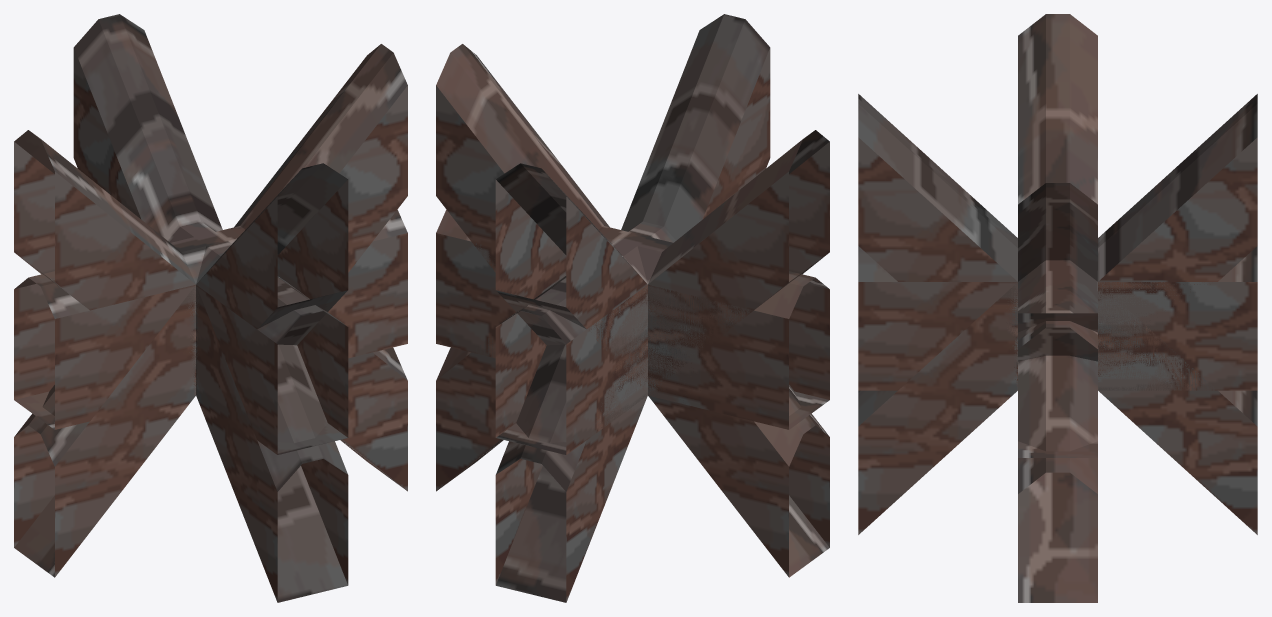
The model's file is Tunnels.fbx.
The picture shows the model from 3 angles, left to right: view 1: azimuth 30°, elevation 25°; view 2: azimuth 150°, elevation 25°; view 3: azimuth 270°, elevation 25°; orthographic projection. The views are drawn at different scales.
Visible parts, largest first — view 1: Tunnel Staircase DS, Tunnel Staircase DW, Tunnel Staircase UN, Tunnel Staircase UW, Tunnel Coridor W, Tunnel Staircase US, Tunnel Staircase UE, Tunnel Coridor S, Tunnel Coridor E, Tunnel Staircase DE, Tunnel Junction; view 2: Tunnel Staircase UW, Tunnel Staircase DN, Tunnel Coridor W, Tunnel Staircase US, Tunnel Staircase UN, Tunnel Staircase DW, Tunnel Coridor N, Tunnel Staircase UE, Tunnel Coridor E, Tunnel Staircase DE, Tunnel Junction; view 3: Tunnel Staircase UN, Tunnel Staircase DE, Tunnel Staircase DS, Tunnel Coridor N, Tunnel Staircase US, Tunnel Staircase DN, Tunnel Staircase UW, Tunnel Coridor S, Tunnel Staircase UE, Tunnel Coridor E.
Boxes of the visible parts, box(x1,y1,x2,y2) form: Tunnel Staircase DS: box(196, 287, 348, 602); Tunnel Staircase DW: box(14, 285, 195, 577); Tunnel Staircase UN: box(73, 14, 222, 240); Tunnel Staircase UW: box(14, 130, 195, 394); Tunnel Coridor W: box(14, 271, 195, 429); Tunnel Staircase US: box(196, 163, 348, 381); Tunnel Staircase UE: box(234, 44, 407, 272); Tunnel Coridor S: box(196, 276, 348, 454); Tunnel Coridor E: box(328, 209, 407, 358); Tunnel Staircase DE: box(340, 347, 407, 491); Tunnel Junction: box(168, 221, 244, 284); Tunnel Staircase UW: box(648, 130, 829, 393); Tunnel Staircase DN: box(495, 288, 647, 602); Tunnel Coridor W: box(648, 271, 829, 429); Tunnel Staircase US: box(621, 14, 770, 240); Tunnel Staircase UN: box(495, 163, 647, 394); Tunnel Staircase DW: box(648, 286, 829, 577); Tunnel Coridor N: box(495, 276, 647, 454); Tunnel Staircase UE: box(436, 44, 609, 272); Tunnel Coridor E: box(436, 209, 515, 358); Tunnel Staircase DE: box(436, 338, 503, 491); Tunnel Junction: box(599, 221, 675, 284); Tunnel Staircase UN: box(1098, 94, 1257, 389); Tunnel Staircase DE: box(1018, 355, 1097, 602); Tunnel Staircase DS: box(858, 282, 1017, 534); Tunnel Coridor N: box(1098, 246, 1257, 390); Tunnel Staircase US: box(858, 94, 1017, 389); Tunnel Staircase DN: box(1098, 284, 1257, 534); Tunnel Staircase UW: box(1018, 14, 1097, 204); Tunnel Coridor S: box(858, 246, 1017, 390); Tunnel Staircase UE: box(1018, 183, 1097, 361); Tunnel Coridor E: box(1018, 260, 1097, 457).
Bounding box in the file's own units: 10 × 11.6 × 10.
